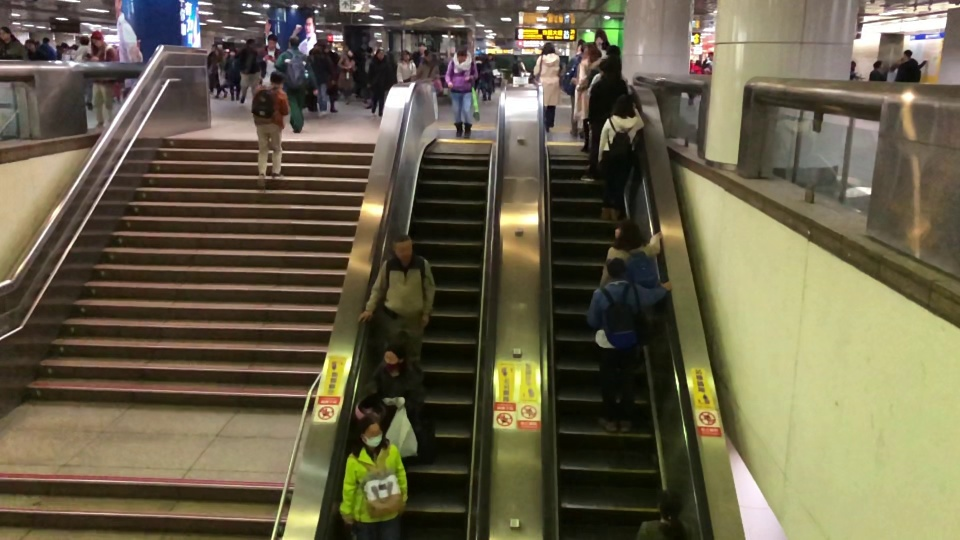person_head: (355, 413, 384, 452), (655, 487, 685, 523), (381, 340, 406, 374), (611, 217, 641, 245), (391, 233, 414, 262), (611, 92, 634, 118), (605, 255, 627, 279), (597, 58, 616, 78), (268, 69, 285, 88), (602, 43, 621, 59), (581, 43, 598, 59), (455, 46, 468, 65), (90, 30, 104, 47), (541, 41, 556, 56), (266, 33, 278, 50), (287, 34, 301, 48), (422, 49, 434, 62), (0, 27, 11, 41), (417, 41, 426, 56), (873, 59, 884, 71), (375, 47, 385, 59), (902, 48, 912, 60), (245, 38, 256, 48), (402, 49, 411, 60), (346, 48, 354, 58)
person_vbox: (585, 256, 673, 433), (355, 232, 436, 371), (336, 414, 407, 540), (365, 342, 425, 475), (595, 94, 644, 221), (578, 60, 628, 181), (248, 71, 291, 191), (598, 213, 663, 290), (272, 35, 318, 133), (636, 485, 694, 540), (444, 47, 478, 139), (88, 29, 116, 129), (559, 42, 587, 139), (533, 41, 561, 133), (575, 44, 597, 154), (235, 38, 260, 104), (366, 48, 389, 117), (257, 35, 285, 88), (337, 46, 357, 105), (895, 48, 927, 83), (0, 27, 27, 59), (417, 48, 440, 82), (394, 51, 417, 84), (867, 59, 886, 81)
